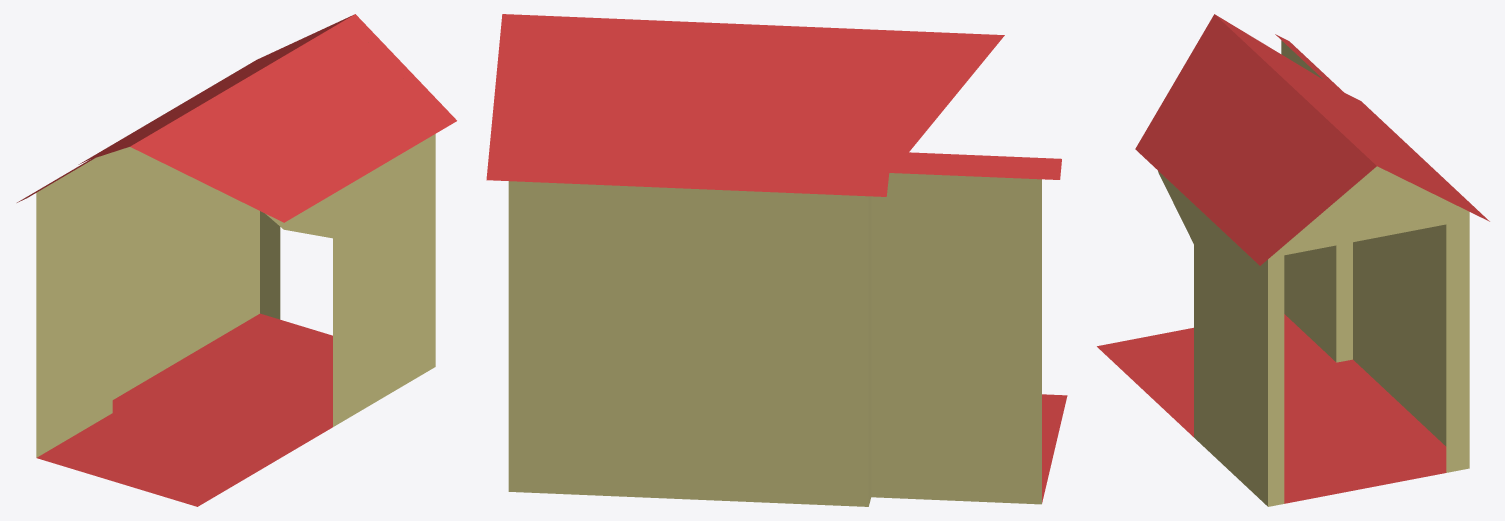
3 renders of one model, left to right at view 1: azimuth 30°, elevation 25°; view 2: azimuth 150°, elevation 25°; view 3: azimuth 270°, elevation 25°, orthographic. The views are drawn at different scales.
Bounding box in the file's own units: 15.87 × 12.36 × 11.33.
